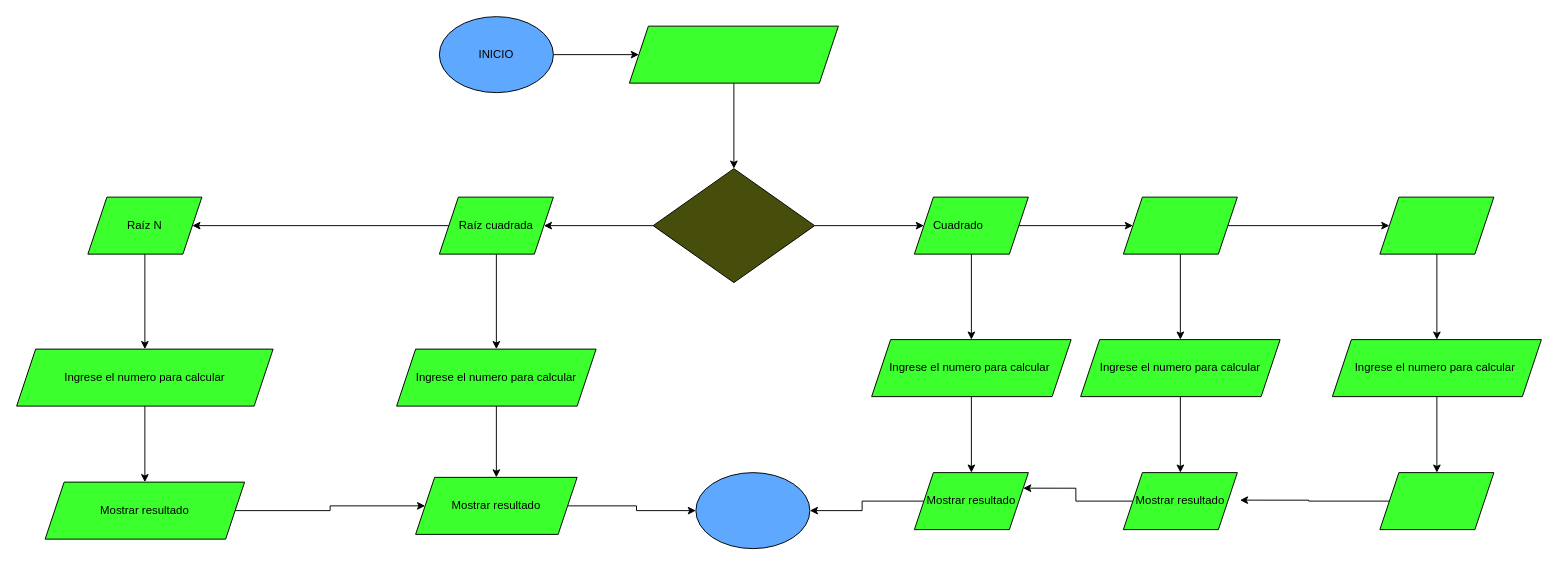
This 1558x565 diagram has some shape labels left out. Here are the shapes that lost their labels. From the top down, the centre of each, then its label:
(733,54): Mostrar menú: "Seleccionar la opción que desea realizar"
(733,225): ¿Qué operación desea realizar?
(1179,225): Cubo
(1436,225): Potencia N
(752,510): FIN
(1436,501): Mostar resultado
